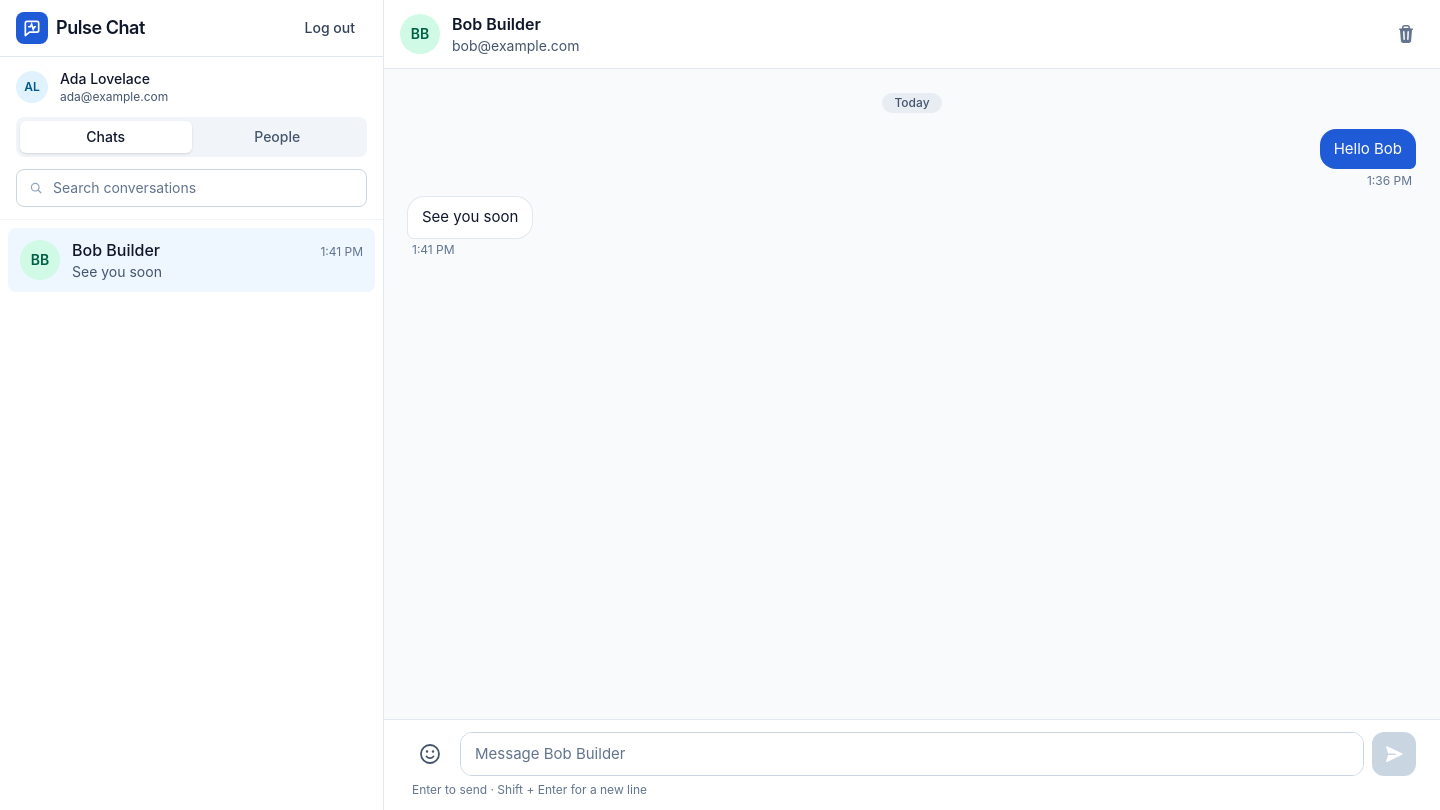
Test: sending messages › treats a missing acknowledgement as a failure
Expected: the heading "Bob Builder" is shown, [452,14,541,34]
Expected: the button "Hello Bob" is shown, [1320,129,1416,169]
Type "Hello?" into the text box labelled "Message Bob Builder" at (912, 754), box [460,732,1364,776]
Then press Enter
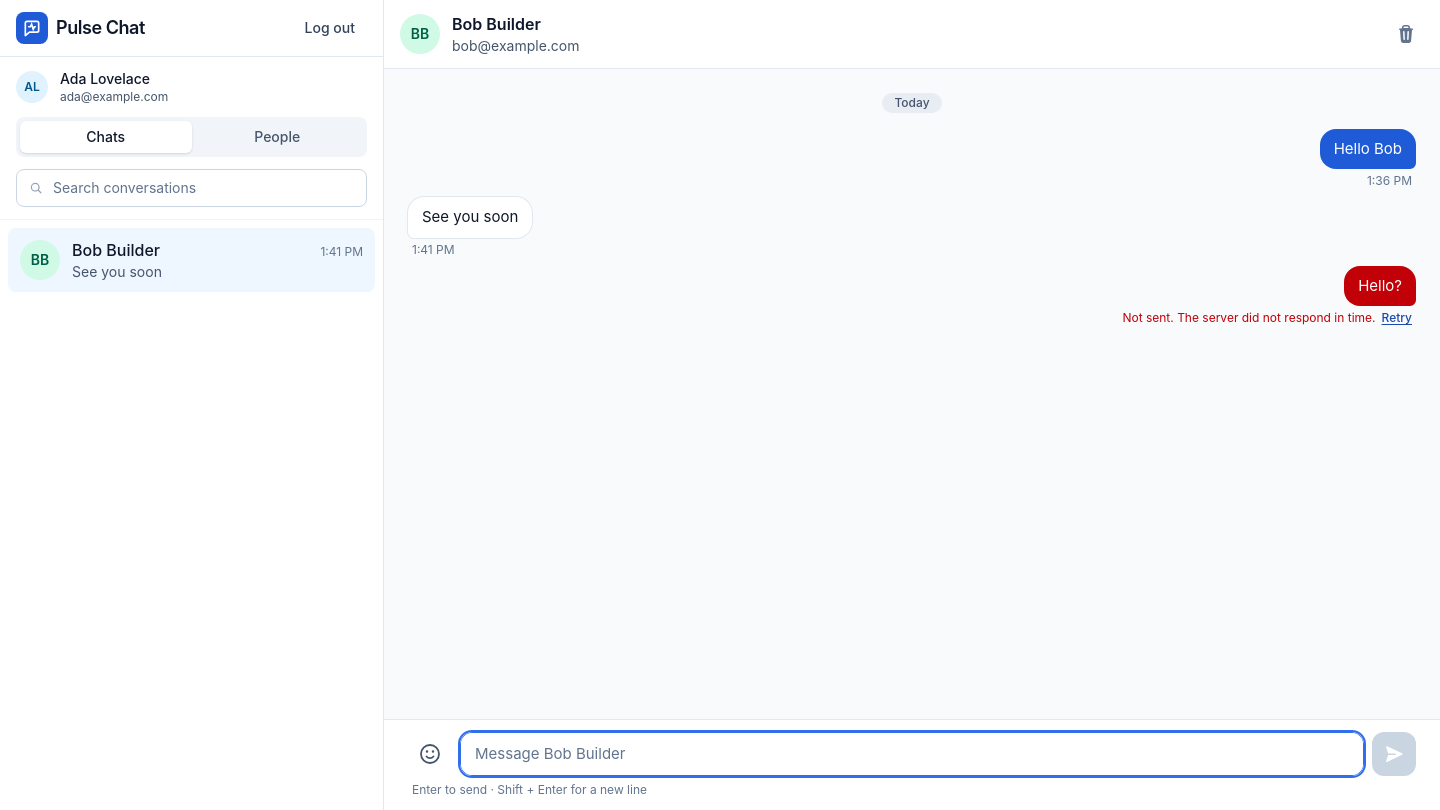
Now the text "Not sent. The server did not respond in time." is shown, box [1122,310,1376,326]
